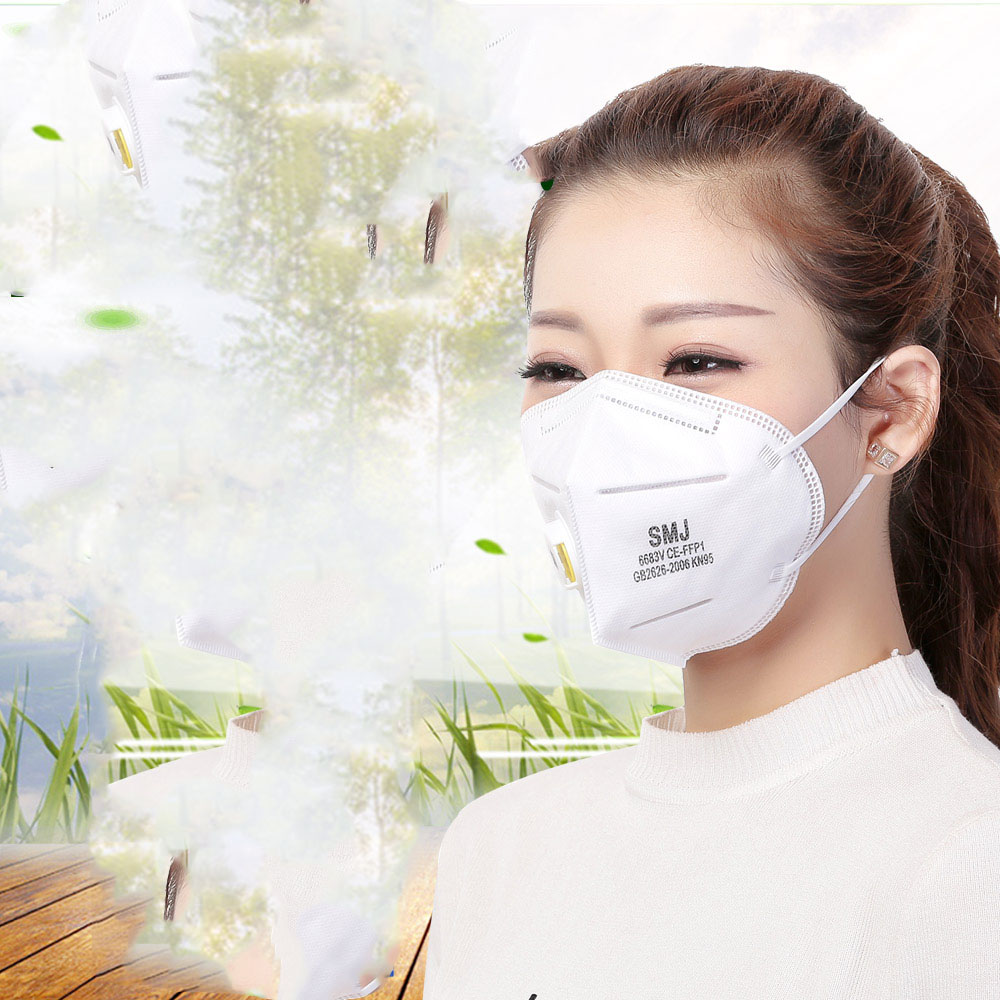face_mask: (513, 170, 847, 654)
